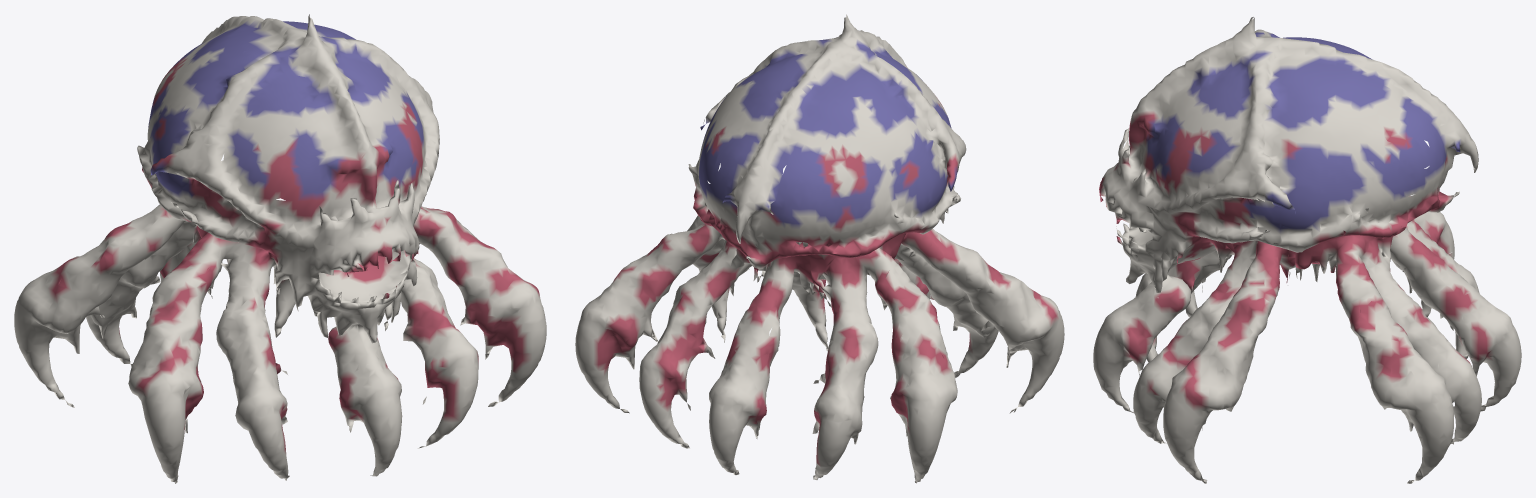
Rendered from mon3d.glb.
The picture shows the model from 3 angles, left to right: view 1: azimuth 30°, elevation 25°; view 2: azimuth 150°, elevation 25°; view 3: azimuth 270°, elevation 25°; orthographic projection. The views are drawn at different scales.
Bounding box in the file's own units: 1.95 × 1.96 × 1.9.
